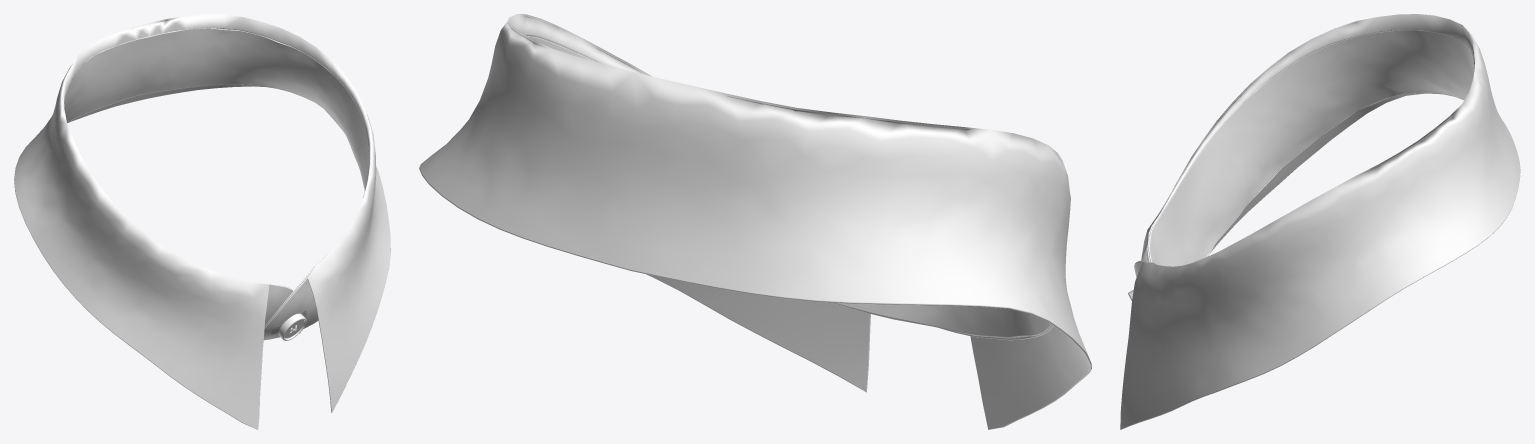
File: Classic_collar.glb
3 renders of one model, left to right at view 1: azimuth 30°, elevation 25°; view 2: azimuth 150°, elevation 25°; view 3: azimuth 270°, elevation 25°, orthographic. The views are drawn at different scales.
Visible parts, largest first — view 1: Pattern_4935173_Node, inner_Node, Pattern_4935171_Node, button.001; view 2: Pattern_4935173_Node, inner_Node; view 3: Pattern_4935173_Node, inner_Node, Pattern_4935171_Node.
Part boxes in pixels (x1,y1,x2,y2): Pattern_4935173_Node: (14, 14, 390, 429); inner_Node: (64, 28, 368, 326); Pattern_4935171_Node: (67, 28, 368, 340); button.001: (278, 313, 306, 340); Pattern_4935173_Node: (419, 14, 1091, 429); inner_Node: (528, 36, 1051, 337); Pattern_4935173_Node: (1120, 14, 1520, 429); inner_Node: (1136, 30, 1474, 266); Pattern_4935171_Node: (1134, 30, 1463, 277).
Size of the model in its own units: 15.92 by 13.1 by 13.52.
Materials: 6 (1 with a texture image).
